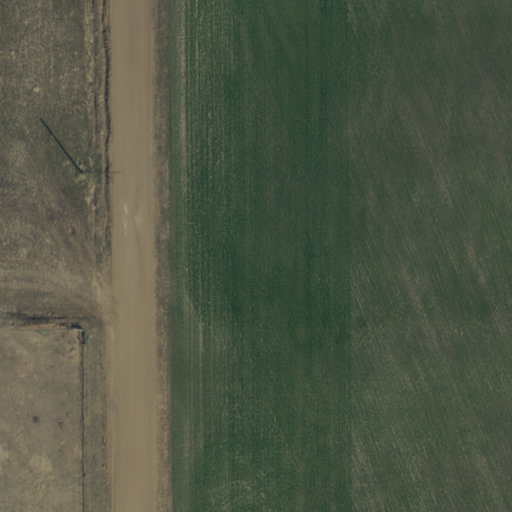DT: (74, 154, 119, 191)
